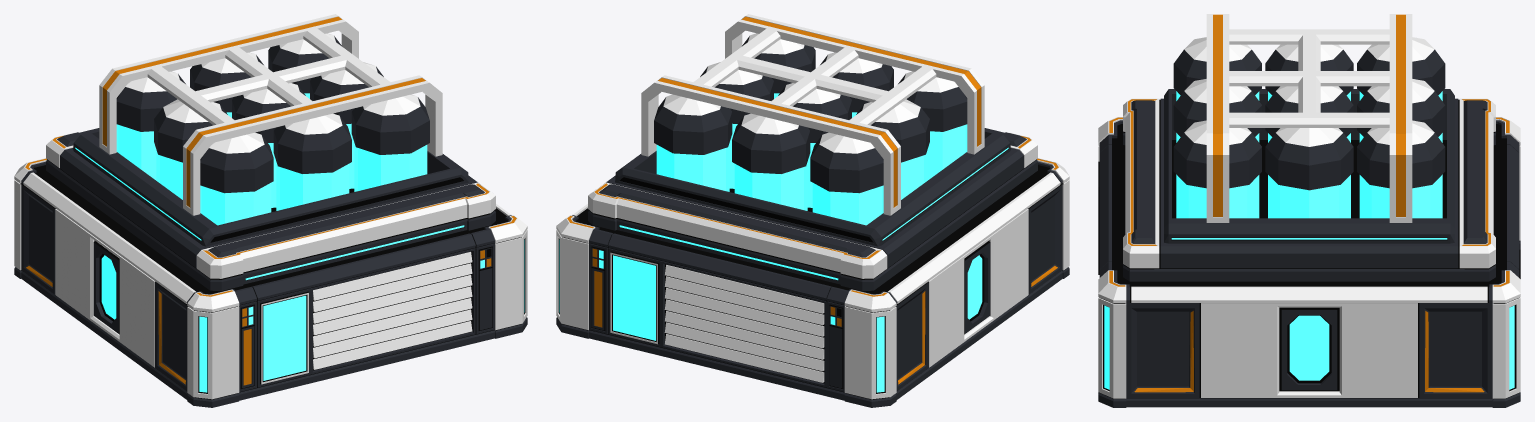
The model's file is SM_Battery_T3.fbx.
The picture shows the model from 3 angles, left to right: view 1: azimuth 30°, elevation 25°; view 2: azimuth 150°, elevation 25°; view 3: azimuth 270°, elevation 25°; orthographic projection. The views are drawn at different scales.
Parts seen in each view (by area): view 1: SM_Battery_T3; view 2: SM_Battery_T3; view 3: SM_Battery_T3.
Part boxes in pixels (x1,y1,x2,y2): SM_Battery_T3: [14, 14, 527, 407]; SM_Battery_T3: [556, 14, 1069, 407]; SM_Battery_T3: [1098, 14, 1520, 407].
Bounding box in the file's own units: 300 × 192 × 300.
